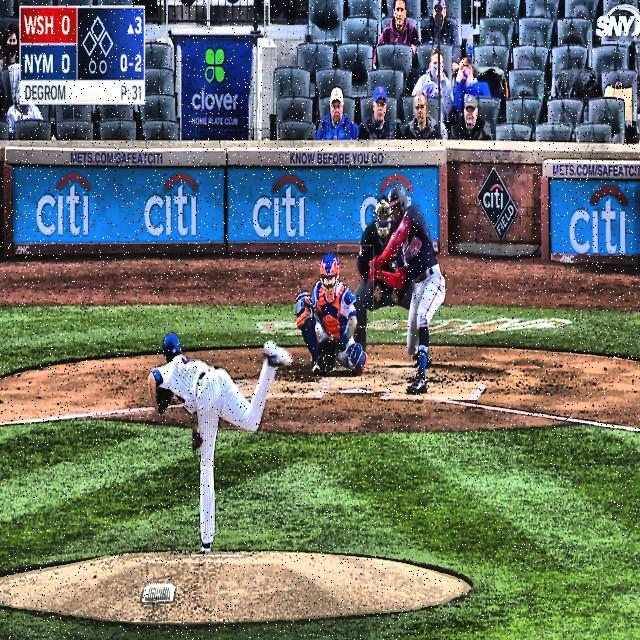baseball: (315, 323, 322, 334)
